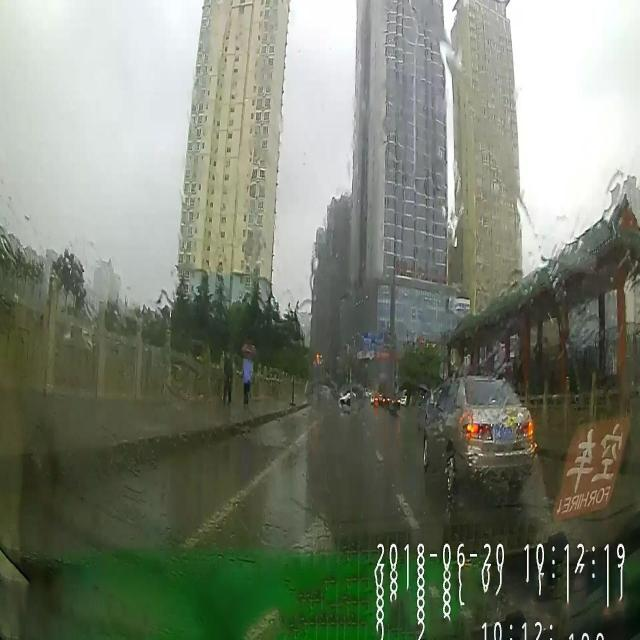car: (421, 376, 538, 502)
